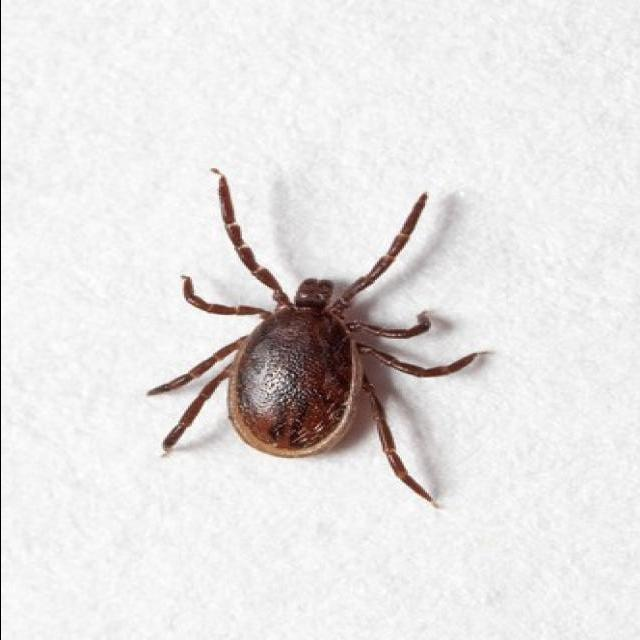Ixodes Ricinus-M: (145, 168, 486, 511)
